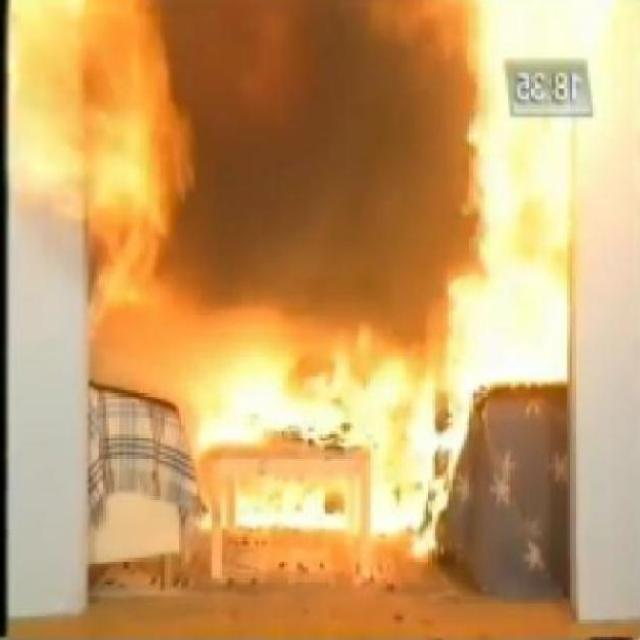smoke: (433, 0, 623, 416), (18, 0, 248, 306), (188, 341, 442, 518)
